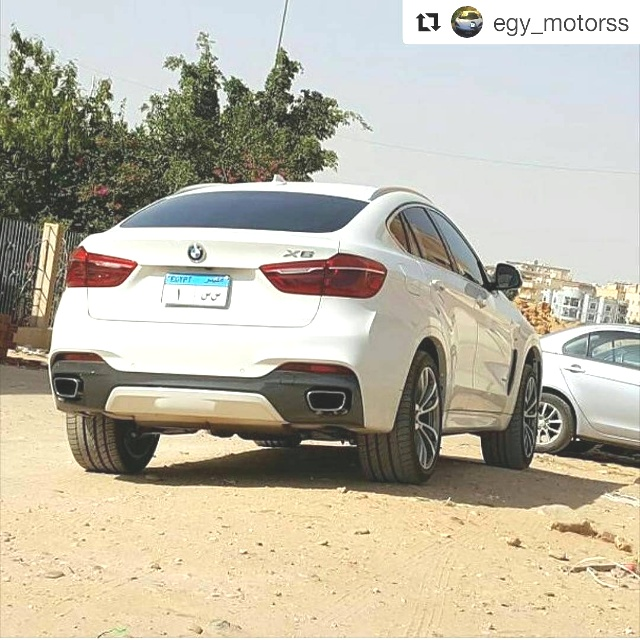License Plate: (158, 269, 232, 310)
